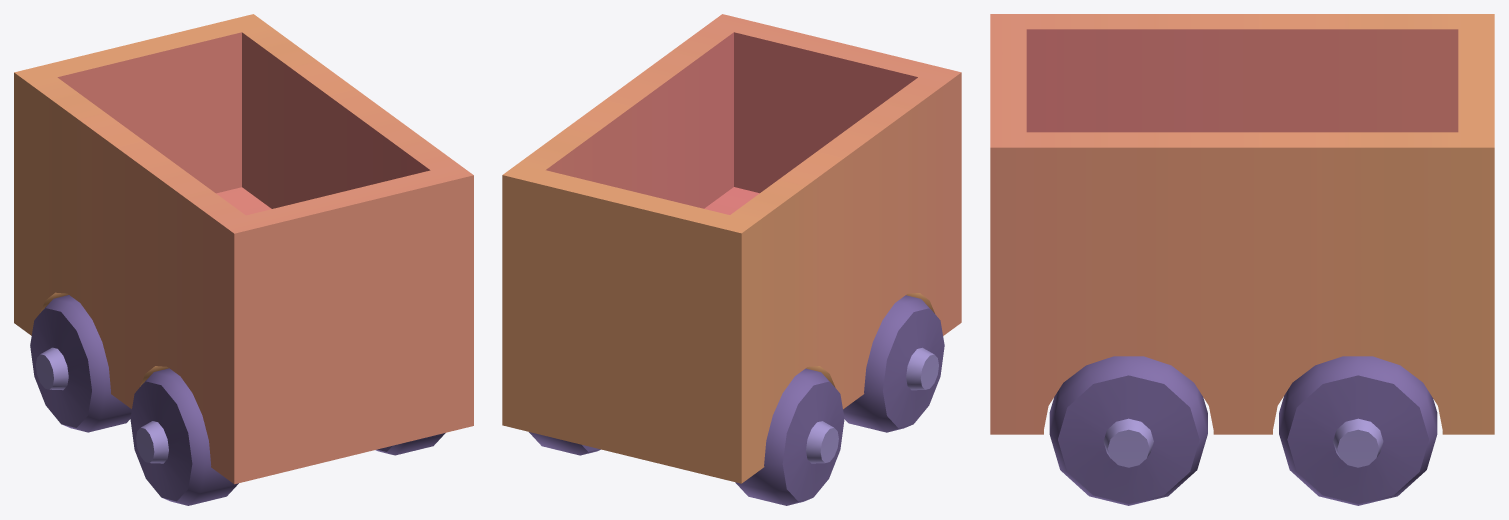
File: train_Carriage_GEO.fbx
3 renders of one model, left to right at view 1: azimuth 30°, elevation 25°; view 2: azimuth 150°, elevation 25°; view 3: azimuth 270°, elevation 25°, orthographic. The views are drawn at different scales.
Visible parts, largest first — view 1: train_Carriage_GEO; view 2: train_Carriage_GEO; view 3: train_Carriage_GEO.
Boxes of the visible parts, <box> form: train_Carriage_GEO: <box>14,14,473,505</box>; train_Carriage_GEO: <box>502,14,961,505</box>; train_Carriage_GEO: <box>990,14,1494,505</box>.
Bounding box in the file's own units: 384 × 385 × 493.
